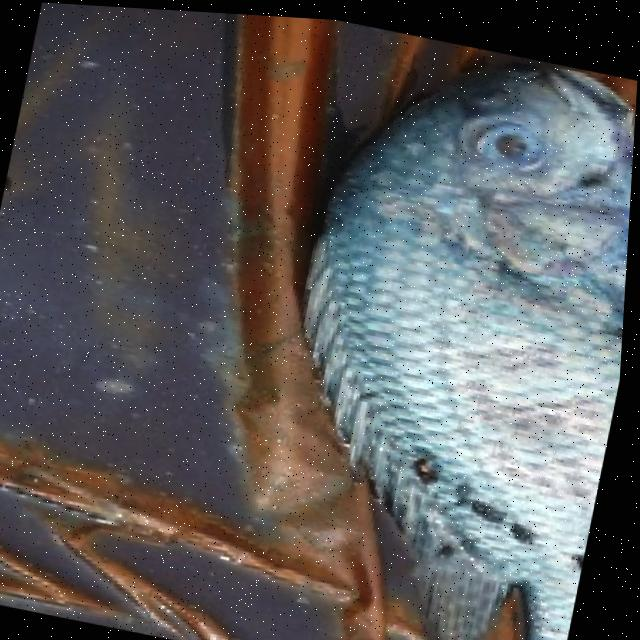Non-Fresh: (315, 162, 633, 581), (440, 83, 567, 215)
